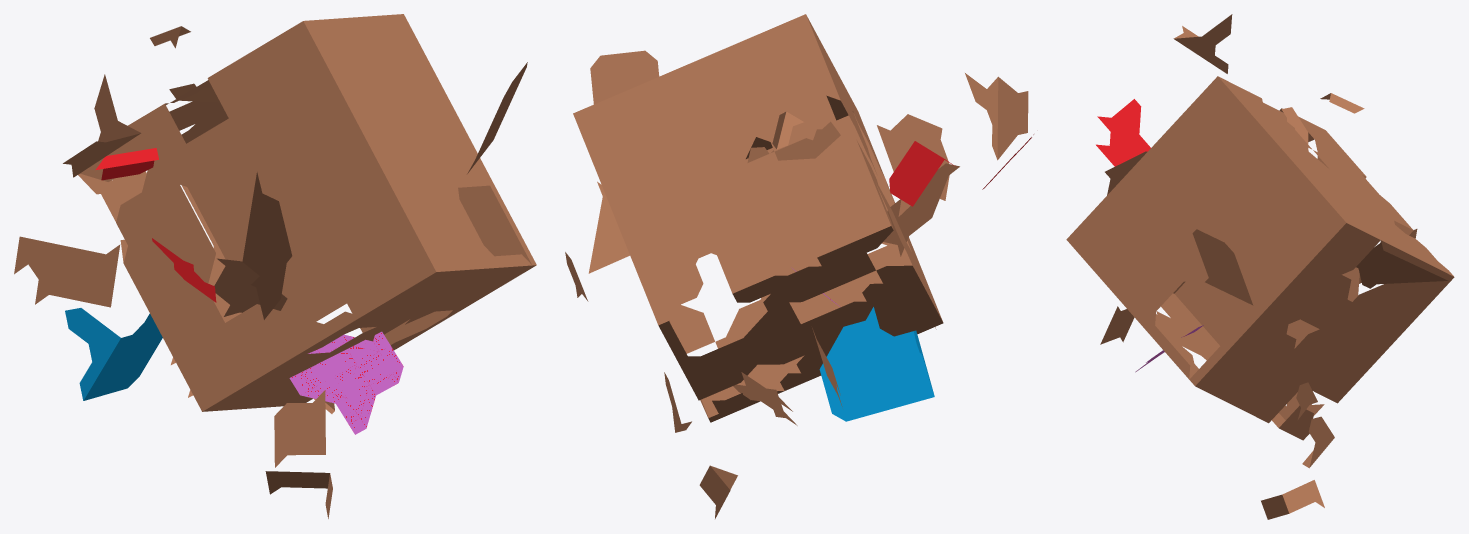
File: explode_000027.obj
3 renders of one model, left to right at view 1: azimuth 30°, elevation 25°; view 2: azimuth 150°, elevation 25°; view 3: azimuth 270°, elevation 25°, orthographic. The views are drawn at different scales.
Visible parts, largest first — view 1: Cube_Cube.001; view 2: Cube_Cube.001; view 3: Cube_Cube.001.
Boxes of the visible parts, x1,y1,x2,y2 form: Cube_Cube.001: (14,14,536,518); Cube_Cube.001: (565,14,1033,518); Cube_Cube.001: (1066,14,1454,519).
Size of the model in its own units: 3.86 by 4.12 by 3.43.
